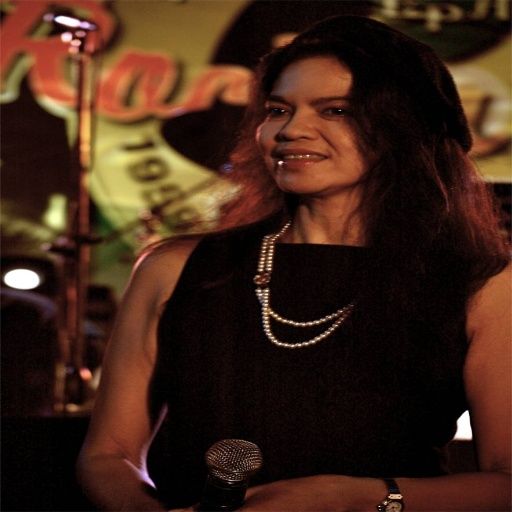hand: (272, 469, 384, 504)
